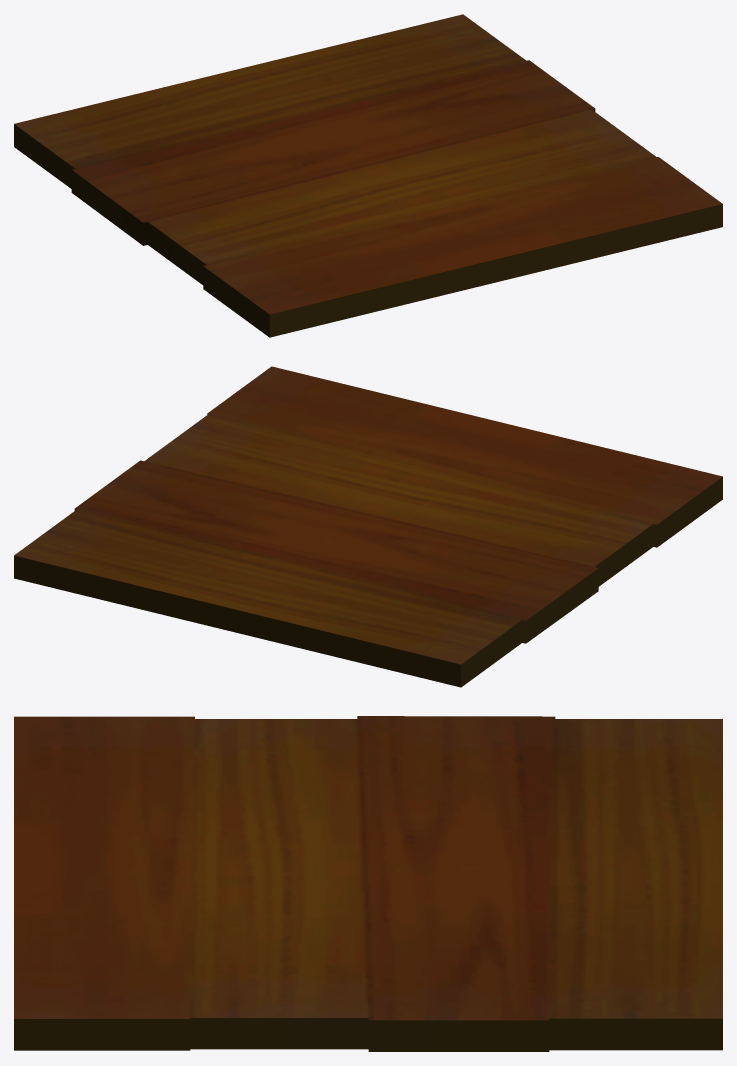
Rendered from Entrance.glb.
3 views of the same model, one above another, from view 1: azimuth 30°, elevation 25°; view 2: azimuth 150°, elevation 25°; view 3: azimuth 270°, elevation 25° (orthographic). The views are drawn at different scales.
Parts seen in each view (by area): view 1: Entrance; view 2: Entrance; view 3: Entrance.
Part boxes in pixels (x1,y1,x2,y2): Entrance: [14, 14, 722, 337]; Entrance: [14, 366, 722, 687]; Entrance: [14, 716, 722, 1051].
Bounding box in the file's own units: 2.24 × 0.1084 × 2.2.
Materials: 1 (1 with a texture image).
